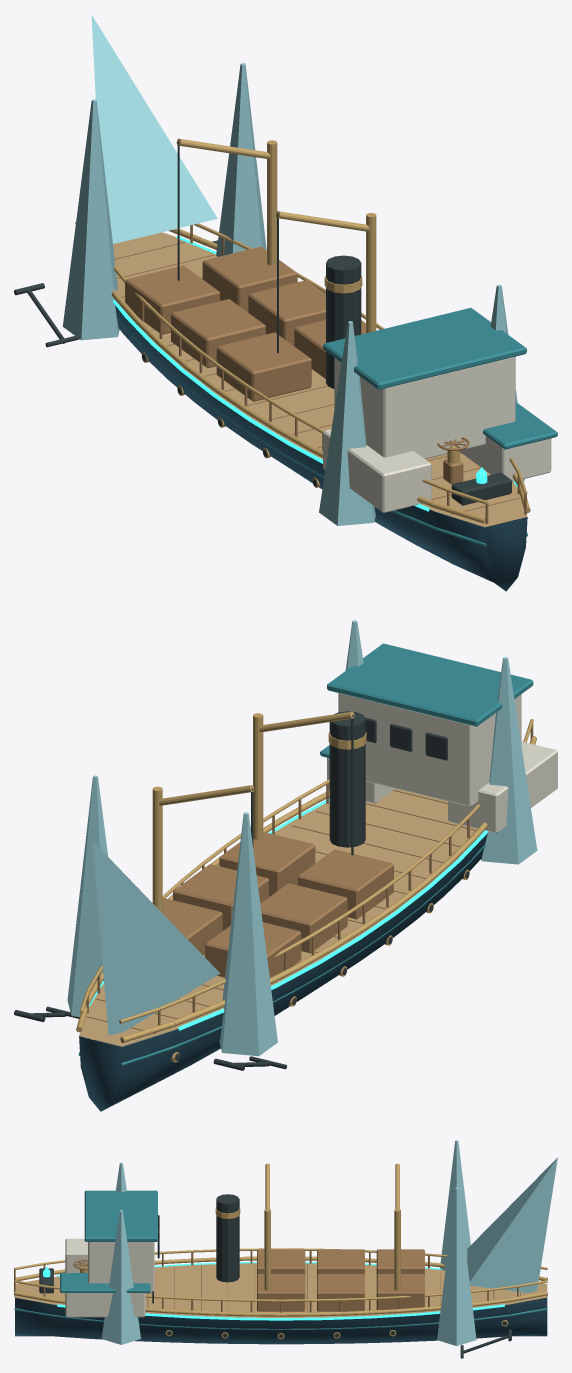
Rendered from ship_freighter.glb.
3 renders of one model, top to bottom at view 1: azimuth 30°, elevation 25°; view 2: azimuth 150°, elevation 25°; view 3: azimuth 270°, elevation 25°, orthographic. The views are drawn at different scales.
Parts seen in each view (by area): view 1: ship_freighter; view 2: ship_freighter; view 3: ship_freighter.
Part boxes in pixels (left/top/right/bottom): ship_freighter: left=14, top=15, right=557, bottom=591; ship_freighter: left=14, top=620, right=557, bottom=1111; ship_freighter: left=14, top=1140, right=557, bottom=1358.
Bounding box in the file's own units: 5.36 × 5.94 × 16.35.
